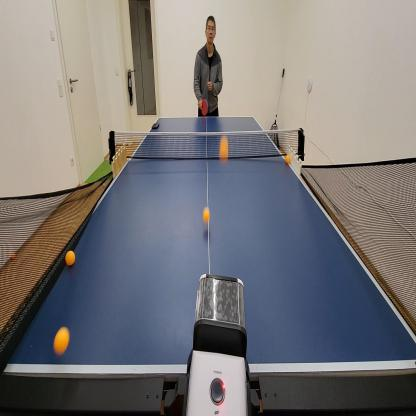Ball: (53, 327, 69, 355), (219, 135, 228, 162), (65, 250, 75, 266), (203, 207, 210, 223), (10, 251, 15, 261), (286, 153, 290, 164), (102, 182, 106, 187)
